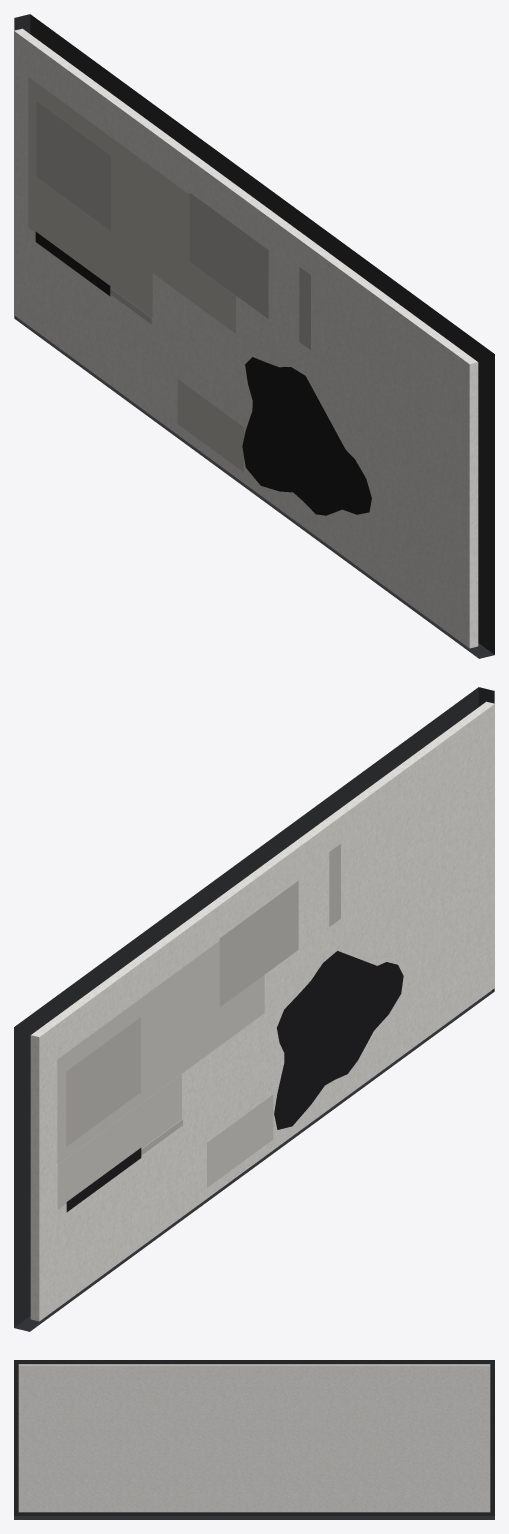
The model's file is art_e5.glb.
3 views of the same model, one above another, from view 1: azimuth 30°, elevation 25°; view 2: azimuth 150°, elevation 25°; view 3: azimuth 270°, elevation 25° (orthographic). The views are drawn at different scales.
Parts seen in each view (by area): view 1: root; view 2: root; view 3: root.
Part boxes in pixels (bbox=[...]): root: bbox=[14, 14, 494, 658]; root: bbox=[14, 687, 494, 1331]; root: bbox=[14, 1360, 494, 1519].
Size of the model in its own units: 0.0509 by 0.6096 by 1.71.
5 materials, 1 textured.
